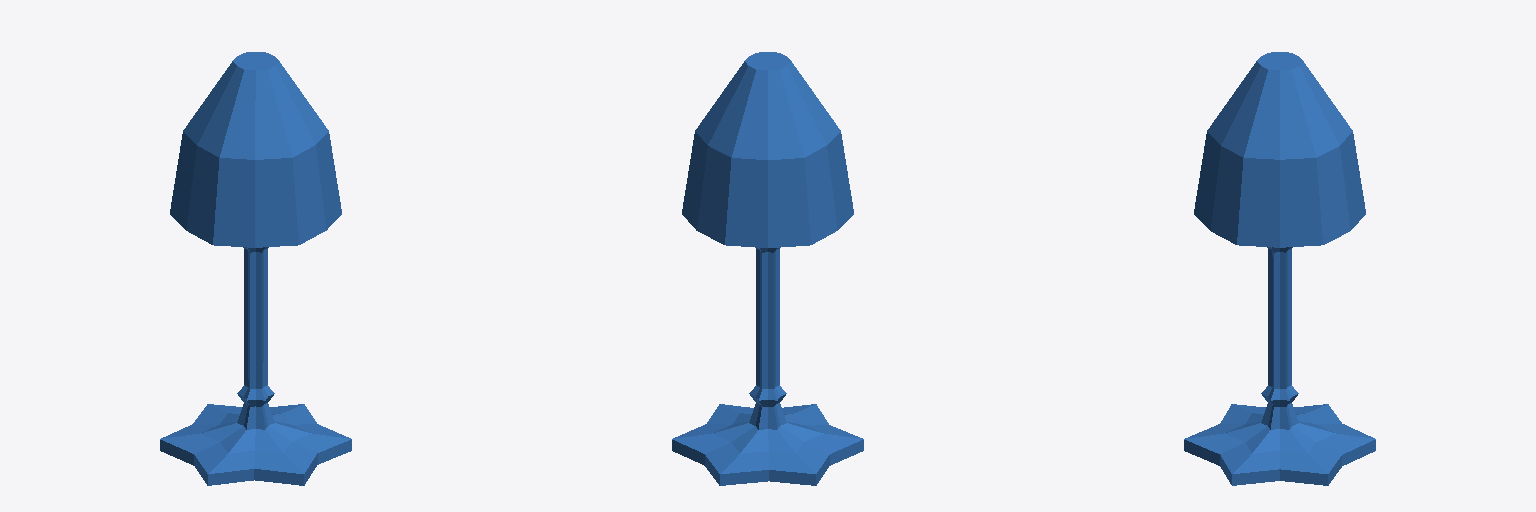
File: lamp_model.obj
The picture shows the model from 3 angles: view 1: azimuth 30°, elevation 25°; view 2: azimuth 150°, elevation 25°; view 3: azimuth 270°, elevation 25°; orthographic projection.
Visible parts, largest first — view 1: polySurface1 lamp; view 2: polySurface1 lamp; view 3: polySurface1 lamp.
Part boxes in pixels (bbox=[...]): polySurface1 lamp: bbox=[160, 52, 351, 485]; polySurface1 lamp: bbox=[672, 52, 863, 485]; polySurface1 lamp: bbox=[1184, 52, 1375, 485].
Size of the model in its own units: 6.87 by 17.69 by 7.93.